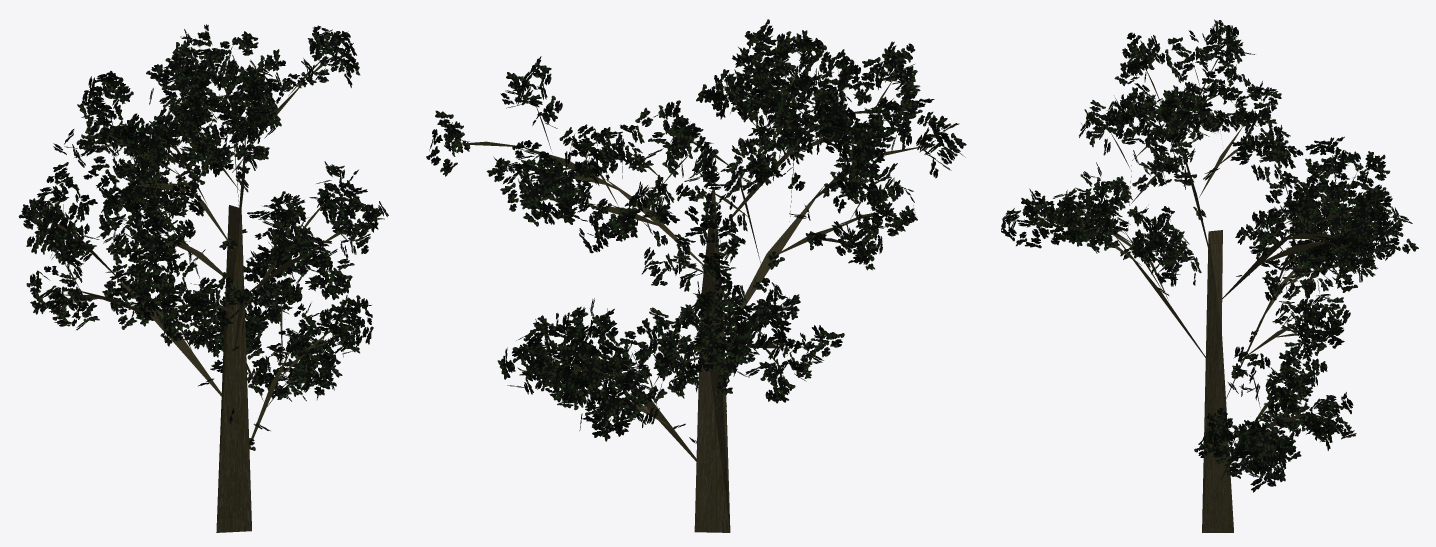
The model's file is evergreen_broad_v02_LOD2.fbx.
3 renders of one model, left to right at view 1: azimuth 30°, elevation 25°; view 2: azimuth 150°, elevation 25°; view 3: azimuth 270°, elevation 25°, orthographic. The views are drawn at different scales.
Parts seen in each view (by area): view 1: evergreen_broad_v02_LOD2; view 2: evergreen_broad_v02_LOD2; view 3: evergreen_broad_v02_LOD2.
Boxes of the visible parts, x1=… form: evergreen_broad_v02_LOD2: x1=18, y1=24, x2=388, y2=532; evergreen_broad_v02_LOD2: x1=426, y1=19, x2=966, y2=532; evergreen_broad_v02_LOD2: x1=1001, y1=19, x2=1418, y2=532.
Size of the model in its own units: 1988 by 1968 by 2342.
Materials: 2 (2 with a texture image).
